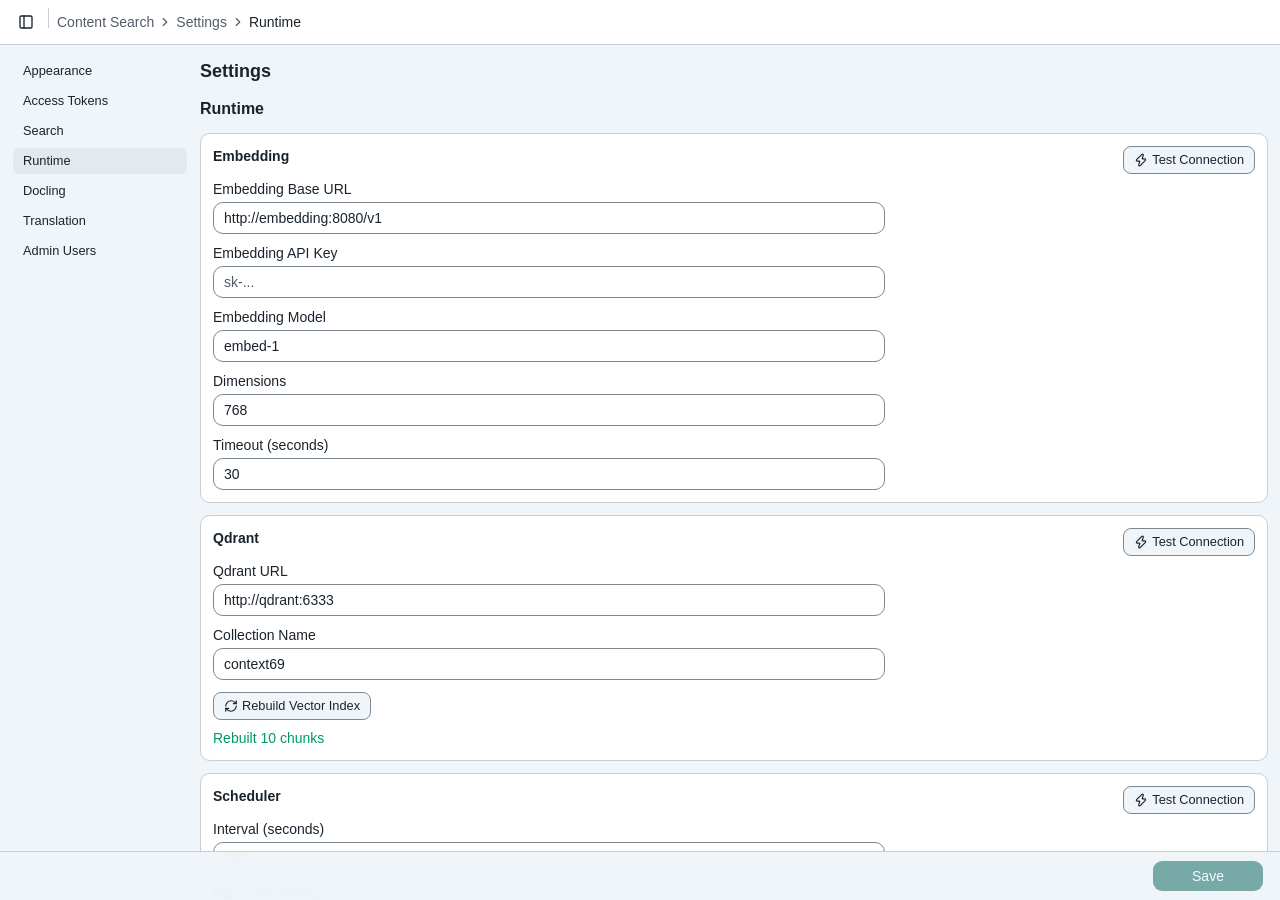
Test case: settings save orchestration › does not claim success while a newer edit remains after the save
Replace the text in the field labelled "Embedding Model" with "embed-2" at (549, 346), box [213, 330, 885, 362]
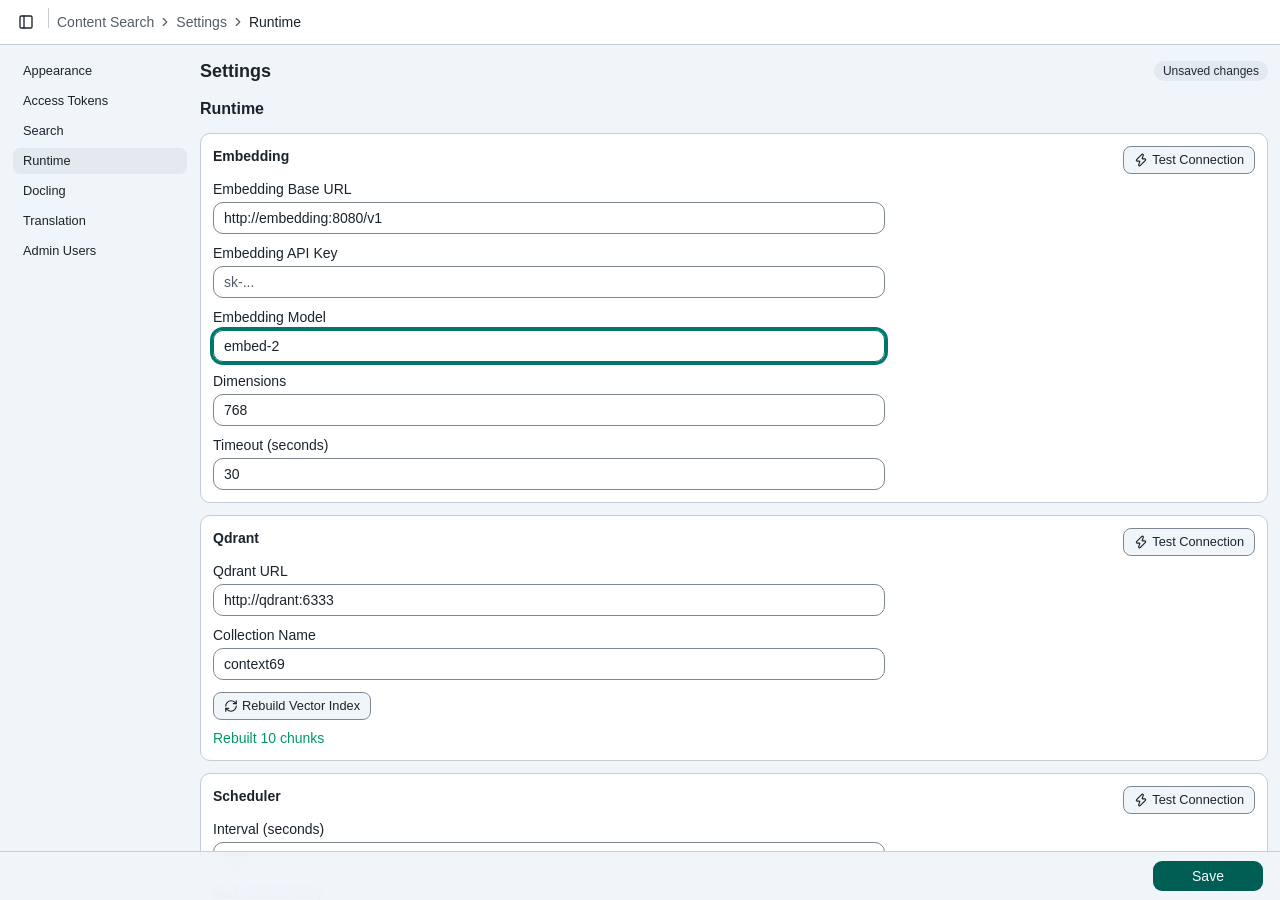
Click the button with test id "settings-save" at (1208, 876), box [1152, 860, 1264, 892]
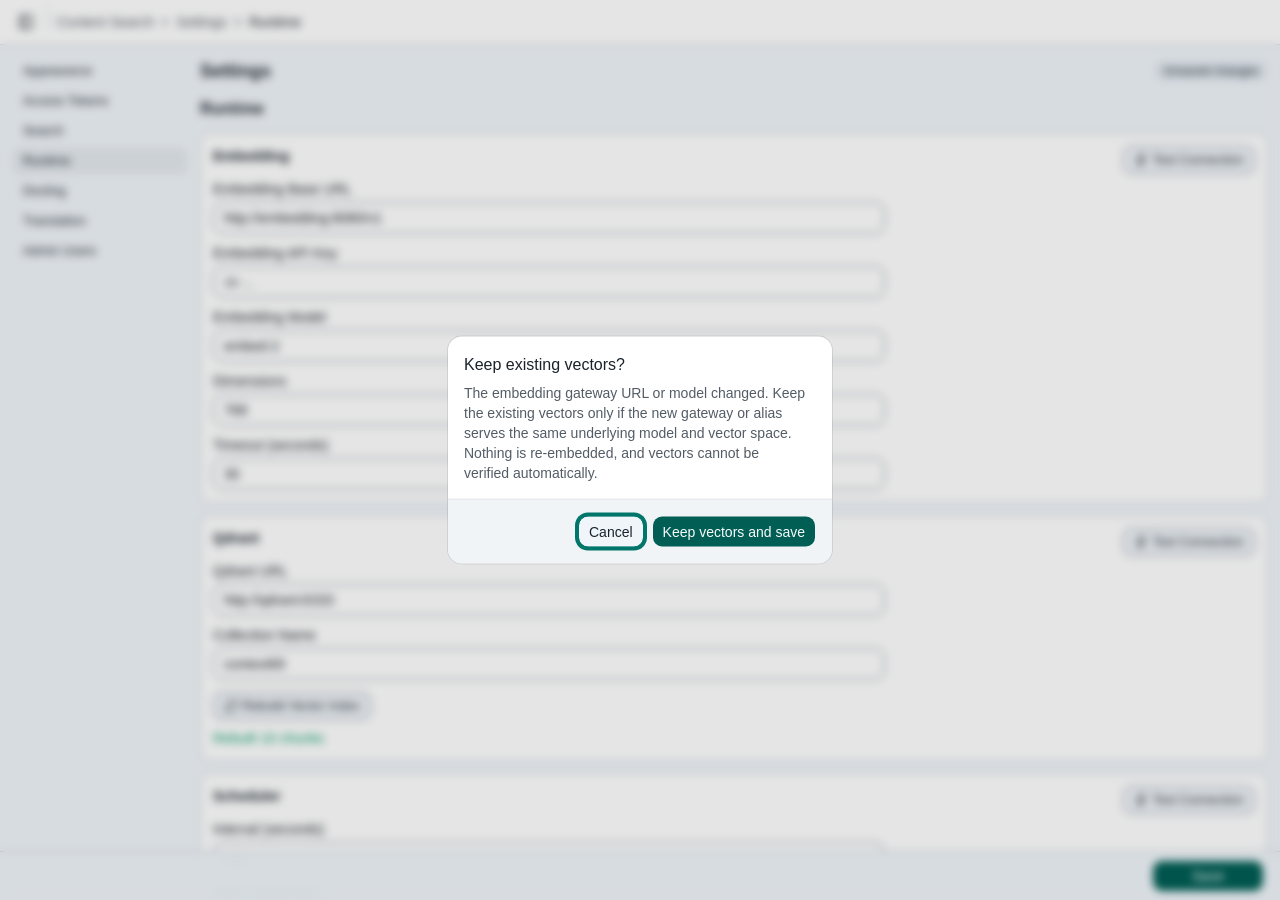
Click the button "Keep vectors and save" at (734, 532), box [652, 516, 816, 548]
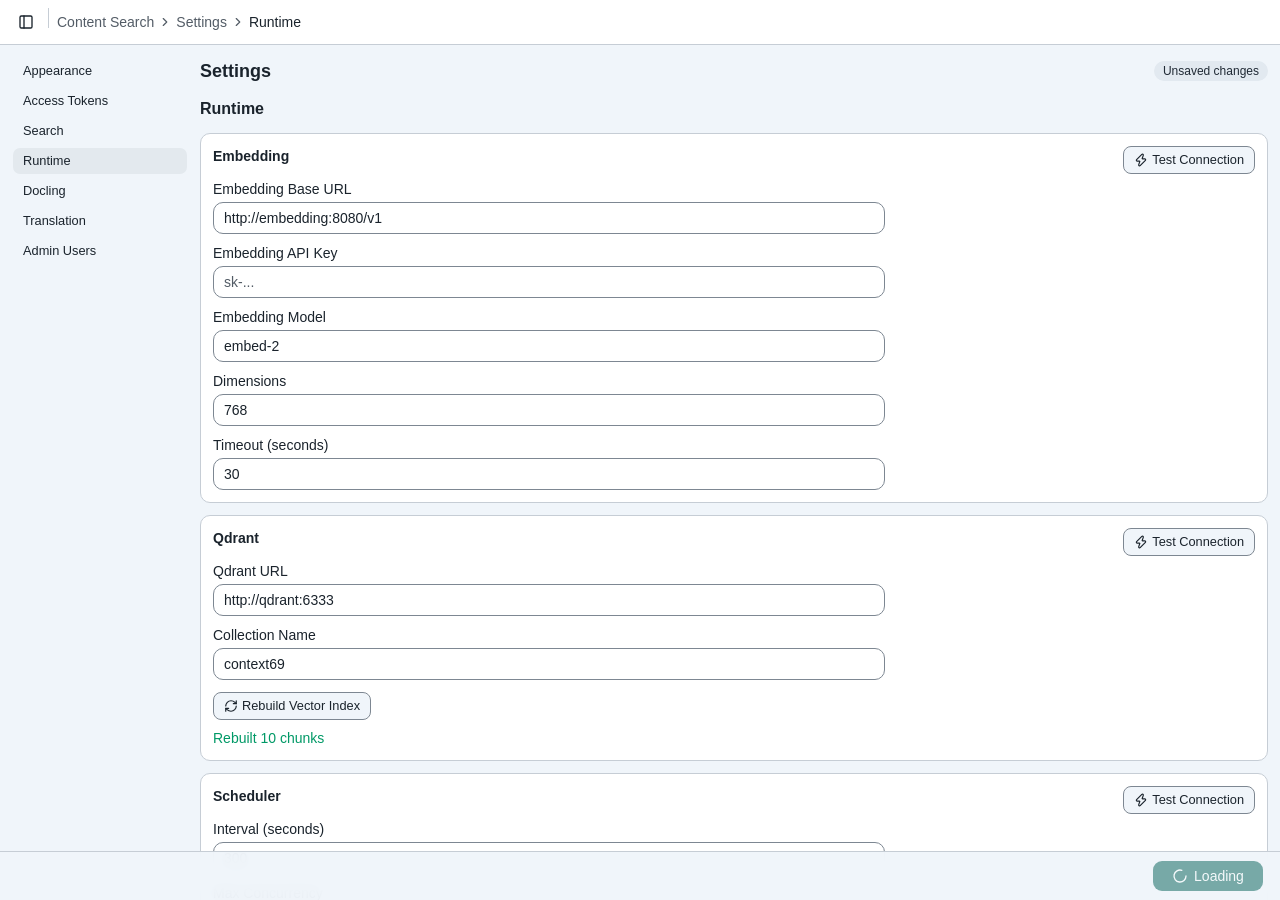
Now the button with test id "settings-save" is disabled, box [1152, 860, 1264, 892]
Replace the text in the field labelled "Embedding Model" with "embed-3" at (549, 346), box [213, 330, 885, 362]
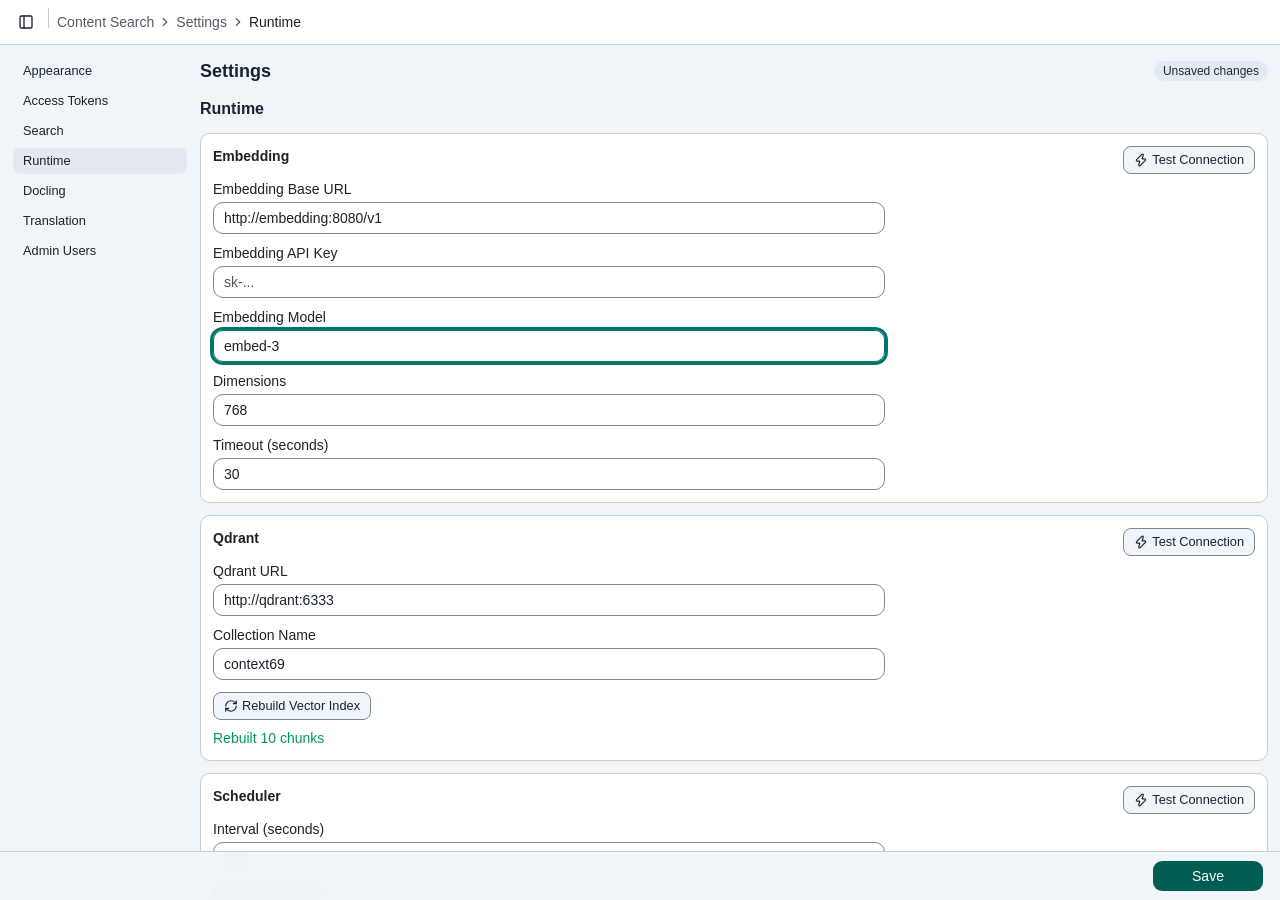
Now the button with test id "settings-save" is enabled, box [1152, 860, 1264, 892]
